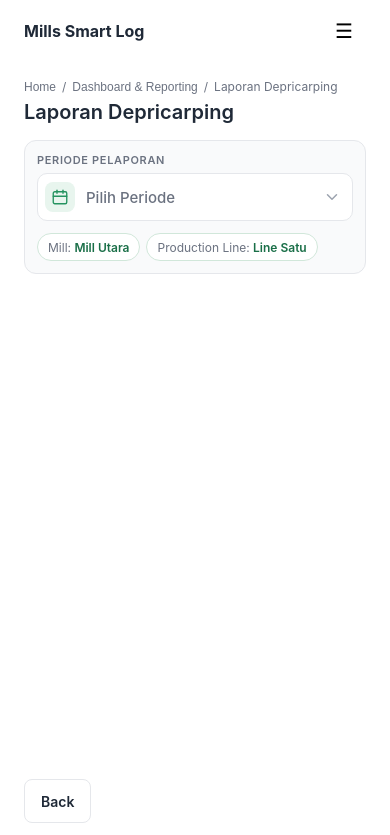
Scenario: kartu parameter › mencetak penyebut tiap kartu apa adanya, dan penyebutnya memang berbeda
Select "Depricarping — Periode September 2026" in the dropdown with test id "period-select" at [195, 197], box [37, 173, 353, 221]
(page scrolled)
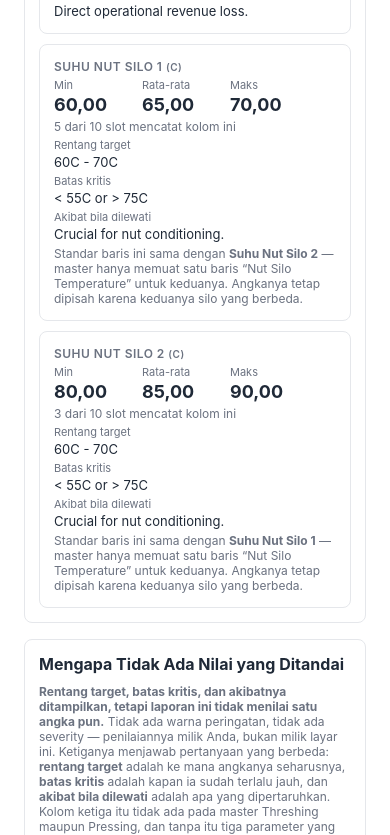
Result: the number of elements with test id "metric-denominator" is 7
Result: the text with test id "metric-denominator" shows "5 dari 10 slot" at [54, 119, 236, 134]
Result: the text with test id "metric-denominator" shows "3 dari 10 slot" at [54, 406, 236, 421]
